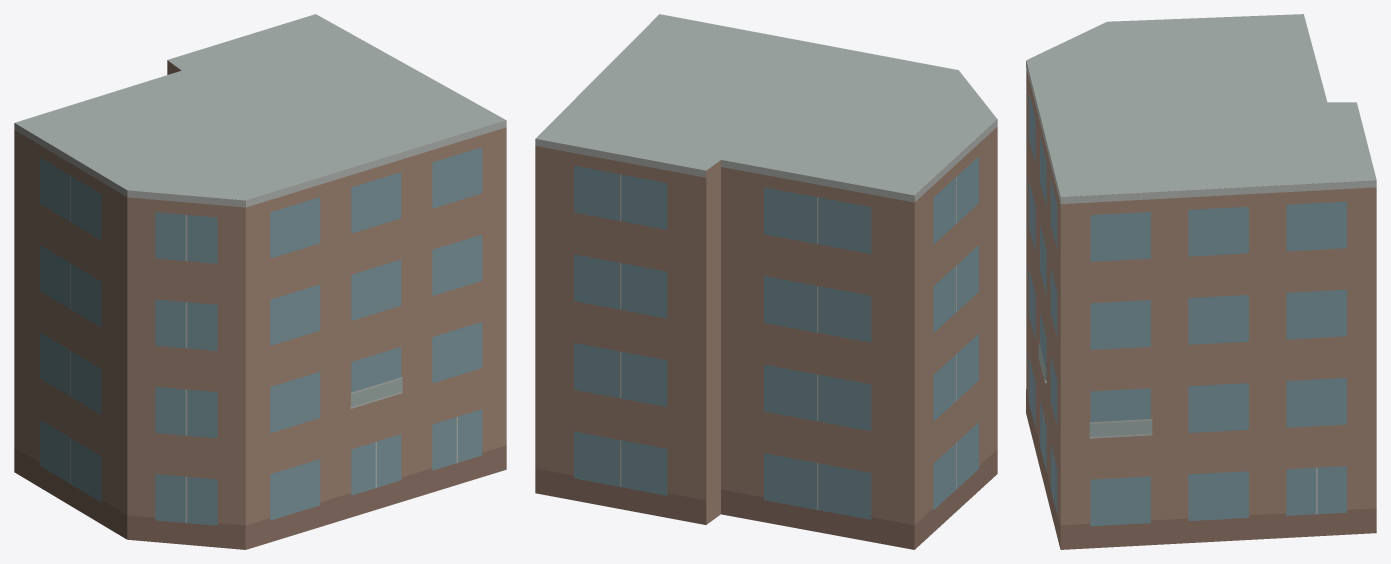
The model's file is survey-upis-32854395.glb.
3 renders of one model, left to right at view 1: azimuth 30°, elevation 25°; view 2: azimuth 150°, elevation 25°; view 3: azimuth 270°, elevation 25°, orthographic.
Parts seen in each view (by area): view 1: survey-upis-32854395.tmp; view 2: survey-upis-32854395.tmp; view 3: survey-upis-32854395.tmp.
Part boxes in pixels (x1=…): survey-upis-32854395.tmp: x1=14, y1=14, x2=506, y2=549; survey-upis-32854395.tmp: x1=535, y1=14, x2=997, y2=549; survey-upis-32854395.tmp: x1=1026, y1=14, x2=1376, y2=549.
Bounding box in the file's own units: 13.6 × 12.2 × 11.
